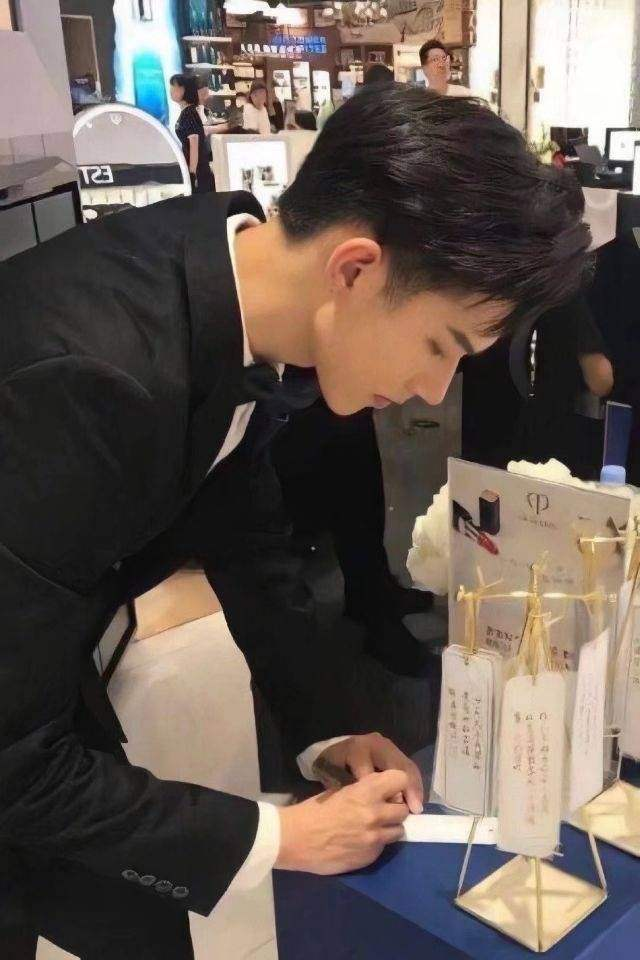person: (71, 57, 603, 817)
